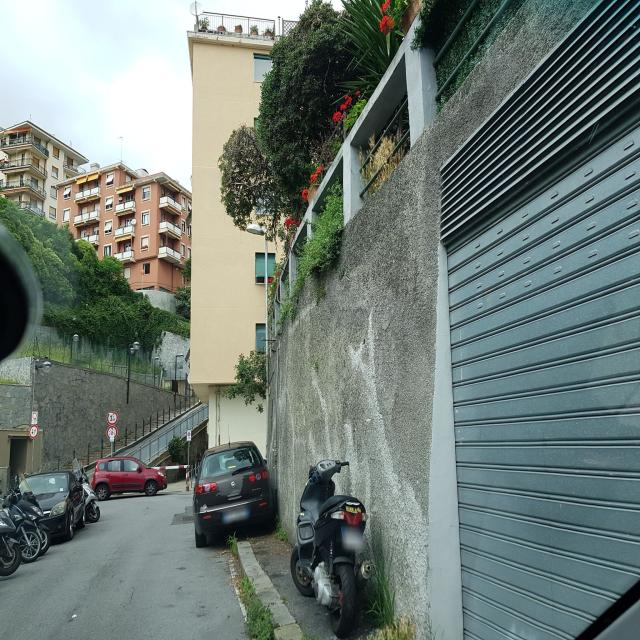bike: (290, 429, 370, 637), (0, 482, 51, 561), (0, 481, 20, 577), (75, 477, 101, 523)
car: (192, 437, 276, 548), (23, 470, 85, 541), (90, 455, 168, 500)
